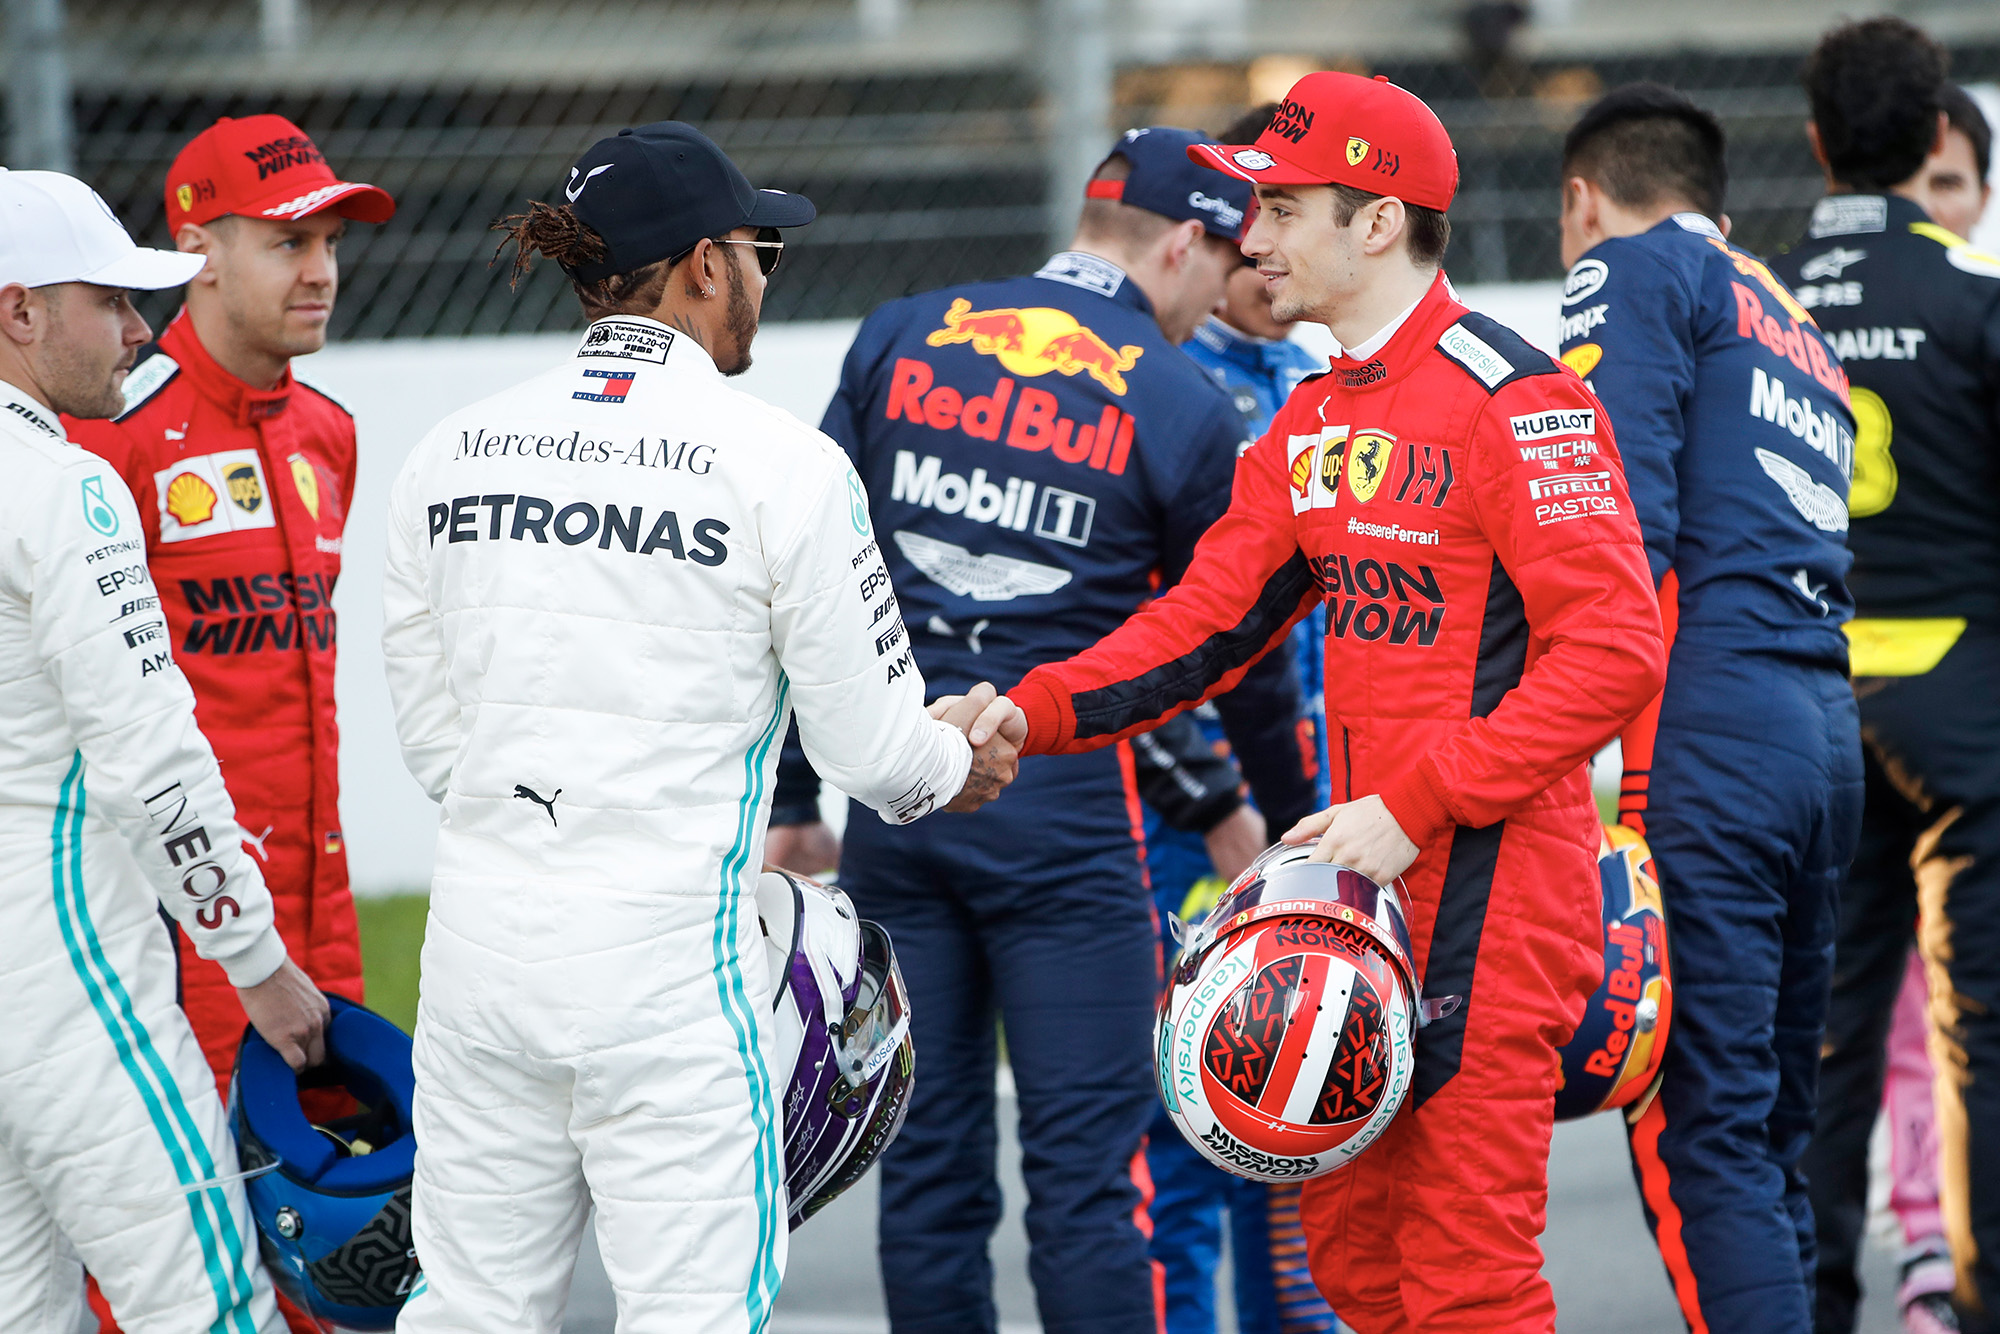without_mask: (232, 213, 340, 348), (1249, 185, 1357, 317), (75, 280, 156, 421)
